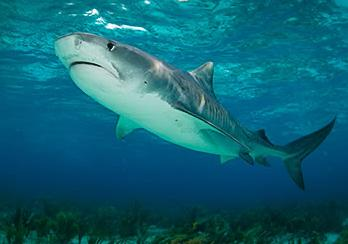Shark -Selachimorpha-: (45, 20, 340, 194)
